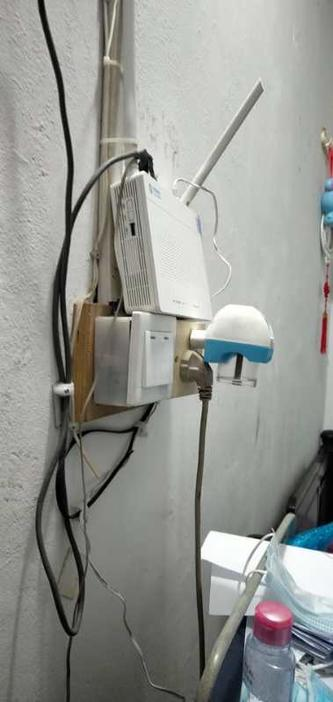switch: (144, 329, 178, 388)
